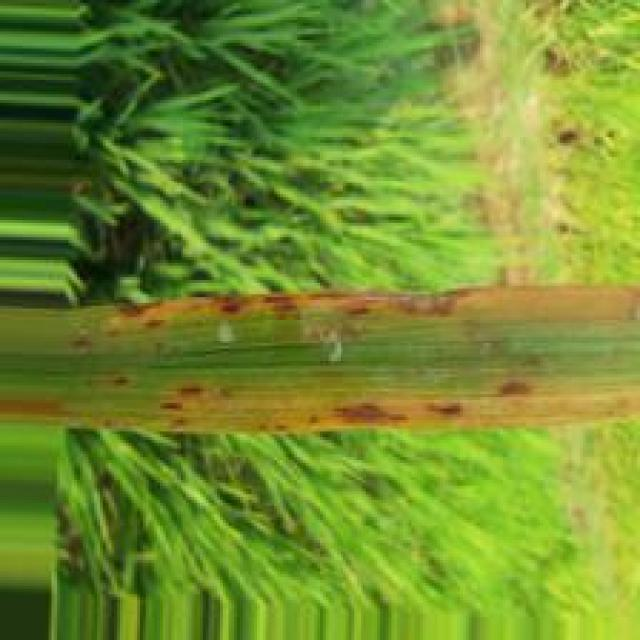Narrow_Brown_Leaf_Spot: (162, 373, 627, 431), (106, 289, 640, 335)
